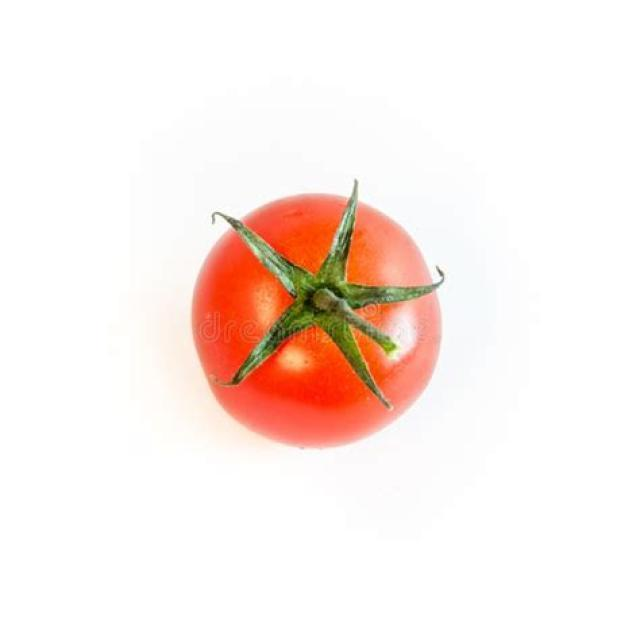Tomato: (191, 183, 446, 451)
